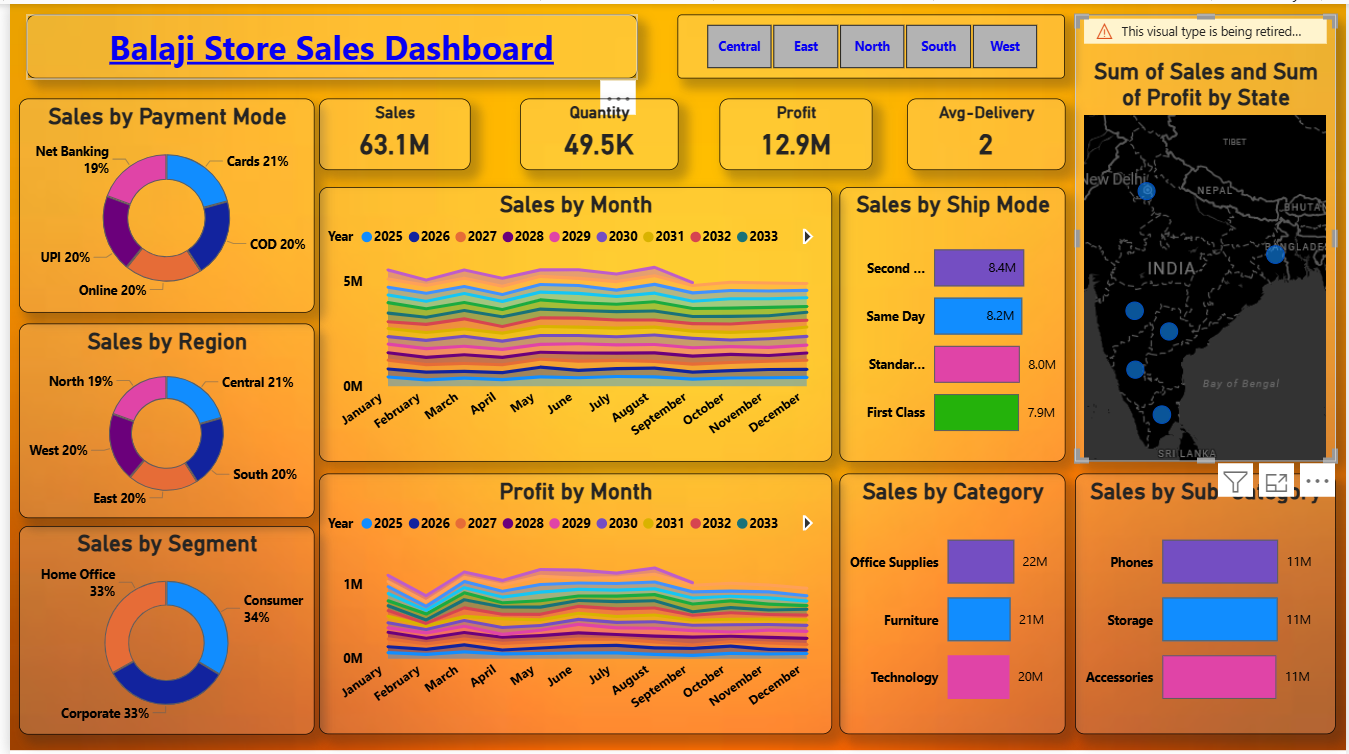

The dashboard page shown, as its layout file describes it:
{"tool":"powerbi","page":{"name":"Page 1","canvas":[1280,720],"ordinal":0},"visuals":[{"type":"clusteredBarChart","title":"Sales by Category","fields":{"Category":["SuperStore_5000_Rows_New_Data.Category"],"Y":["Sum(SuperStore_5000_Rows_New_Data.Sales)"]},"box":[795,450,216.7,250],"z":0},{"type":"clusteredBarChart","title":"Sales by Sub-Category","fields":{"Category":["SuperStore_5000_Rows_New_Data.Sub-Category"],"Y":["Sum(SuperStore_5000_Rows_New_Data.Sales)"]},"box":[1021.7,450,250,250],"z":1000},{"type":"clusteredBarChart","title":"Sales by Ship Mode","fields":{"Category":["SuperStore_5000_Rows_New_Data.Ship Mode"],"Y":["Sum(SuperStore_5000_Rows_New_Data.Sales)"]},"box":[795,175,216.7,263.3],"z":2000},{"type":"stackedAreaChart","title":"Sales by Month","fields":{"Y":["Sum(SuperStore_5000_Rows_New_Data.Sales)"],"Category":["SuperStore_5000_Rows_New_Data.Order Date.Variation.Date Hierarchy.Month","SuperStore_5000_Rows_New_Data.Order Date.Variation.Date Hierarchy.Day"],"Series":["SuperStore_5000_Rows_New_Data.Order Date.Variation.Date Hierarchy.Year"]},"box":[296.7,175,491.7,263.3],"z":3000},{"type":"stackedAreaChart","title":"Profit by Month","fields":{"Category":["SuperStore_5000_Rows_New_Data.Order Date.Variation.Date Hierarchy.Month","SuperStore_5000_Rows_New_Data.Order Date.Variation.Date Hierarchy.Day"],"Series":["SuperStore_5000_Rows_New_Data.Order Date.Variation.Date Hierarchy.Year"],"Y":["Sum(SuperStore_5000_Rows_New_Data.Profit)"]},"box":[296.7,450,491.7,250],"z":4000},{"type":"map","fields":{"Category":["SuperStore_5000_Rows_New_Data.State"],"Size":["Sum(SuperStore_5000_Rows_New_Data.Sales)"]},"box":[1021.7,10,250,428.3],"z":5000},{"type":"donutChart","title":"Sales by Segment","fields":{"Category":["SuperStore_5000_Rows_New_Data.Segment"],"Y":["Sum(SuperStore_5000_Rows_New_Data.Sales)"]},"box":[8.3,500,283.3,200],"z":6000},{"type":"donutChart","title":"Sales by Payment Mode","fields":{"Y":["Sum(SuperStore_5000_Rows_New_Data.Sales)"],"Category":["SuperStore_5000_Rows_New_Data.Payment Mode"]},"box":[8.3,90,283.3,205],"z":7000},{"type":"slicer","fields":{"Values":["SuperStore_5000_Rows_New_Data.Region"]},"box":[640,10,371.4,61.4],"z":8000},{"type":"textbox","box":[15.7,10,585.7,61.4],"z":9000},{"type":"card","title":"Sales","fields":{"Values":["Sum(SuperStore_5000_Rows_New_Data.Sales)"]},"box":[296.7,90,145,68.3],"z":10000},{"type":"card","title":"Quantity","fields":{"Values":["Sum(SuperStore_5000_Rows_New_Data.Quantity)"]},"box":[488.3,90,151.7,68.3],"z":11000},{"type":"card","title":"Profit","fields":{"Values":["Sum(SuperStore_5000_Rows_New_Data.Profit)"]},"box":[680,90,146.7,68.3],"z":12000},{"type":"card","title":"Avg-Delivery","fields":{"Values":["Avg(SuperStore_5000_Rows_New_Data.AvgDelivery)"]},"box":[860,90,151.7,68.3],"z":13000},{"type":"donutChart","title":"Sales by Region","fields":{"Y":["Sum(SuperStore_5000_Rows_New_Data.Sales)"],"Category":["SuperStore_5000_Rows_New_Data.Region"]},"box":[8.3,306.7,283.3,186.7],"z":14000}]}

Visuals, with their boxes in screenshot pixels (x1, y1, x2, y2), scaled from the page's 1280x720 canvas onto the 1349x754 screenshot:
"Sales by Category" clusteredBarChart: (838, 471, 1066, 733)
"Sales by Sub-Category" clusteredBarChart: (1077, 471, 1340, 733)
"Sales by Ship Mode" clusteredBarChart: (838, 183, 1066, 459)
"Sales by Month" stackedAreaChart: (313, 183, 831, 459)
"Profit by Month" stackedAreaChart: (313, 471, 831, 733)
map - SuperStore_5000_Rows_New_Data.State x Sum(SuperStore_5000_Rows_New_Data.Sales): (1077, 10, 1340, 459)
"Sales by Segment" donutChart: (9, 524, 307, 733)
"Sales by Payment Mode" donutChart: (9, 94, 307, 309)
slicer - SuperStore_5000_Rows_New_Data.Region: (674, 10, 1066, 75)
textbox: (17, 10, 634, 75)
"Sales" card: (313, 94, 466, 166)
"Quantity" card: (515, 94, 674, 166)
"Profit" card: (717, 94, 871, 166)
"Avg-Delivery" card: (906, 94, 1066, 166)
"Sales by Region" donutChart: (9, 321, 307, 517)
